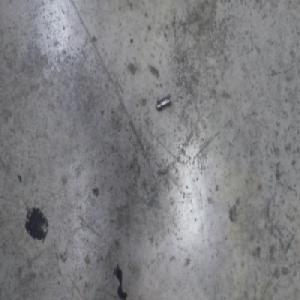Bolt: (156, 95, 171, 114)
